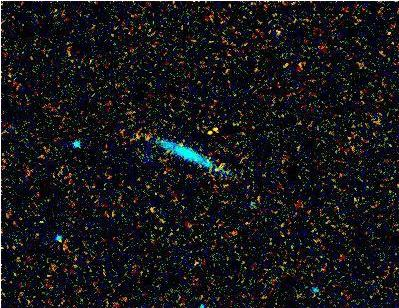star: (202, 116, 232, 146)
